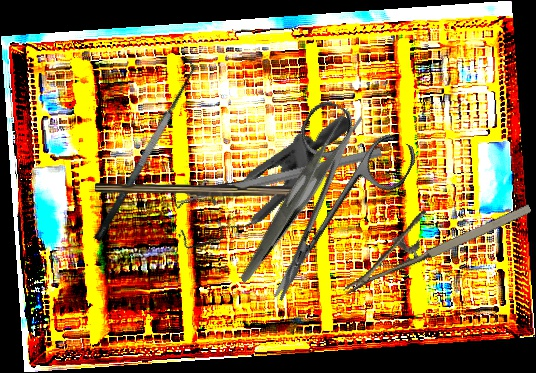Dressing Forceps: (198, 105, 398, 283)
Iris Scissors: (223, 95, 421, 325)
Needle Holder: (326, 173, 535, 295)
Pusher: (175, 144, 383, 210)
Scalpel Handle: (95, 183, 306, 199)
Spatula Surgical: (78, 55, 206, 243)
Speculum: (153, 63, 354, 290)
